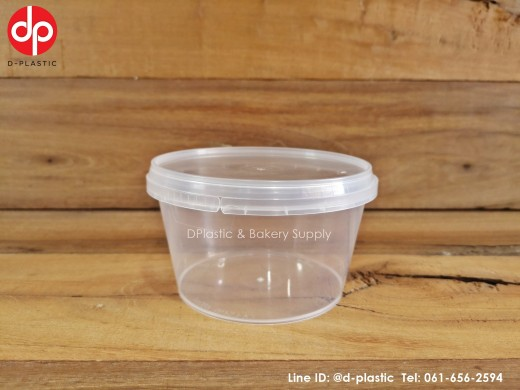PlasticBox: (141, 142, 381, 326)
